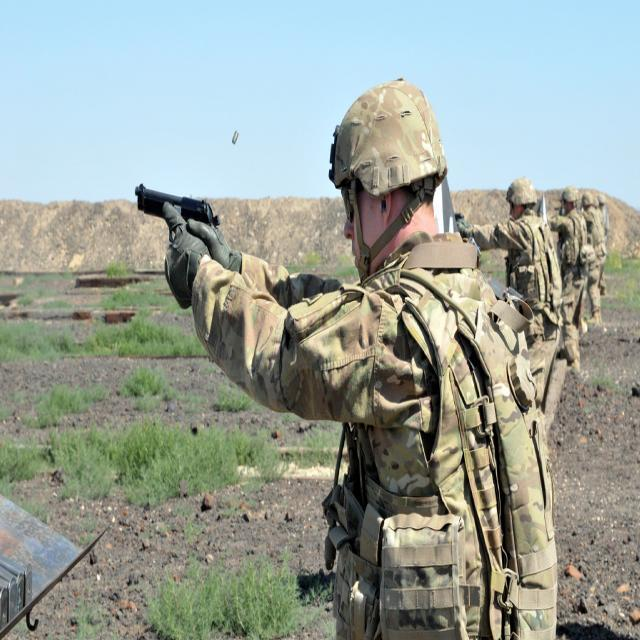weapon: (135, 182, 219, 242)
